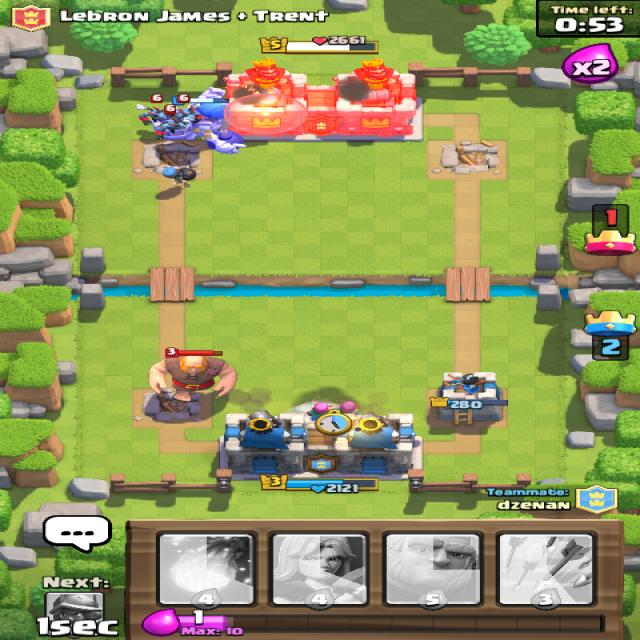Enemy-Giant: (147, 346, 237, 404)
Enemy-Minion: (152, 103, 185, 139), (133, 92, 167, 126), (170, 92, 202, 126)
Player-Archer: (304, 401, 333, 421), (335, 400, 361, 415)
Player-Bomber: (160, 164, 195, 188)
Player-GiantSkeleton: (161, 86, 244, 154)
